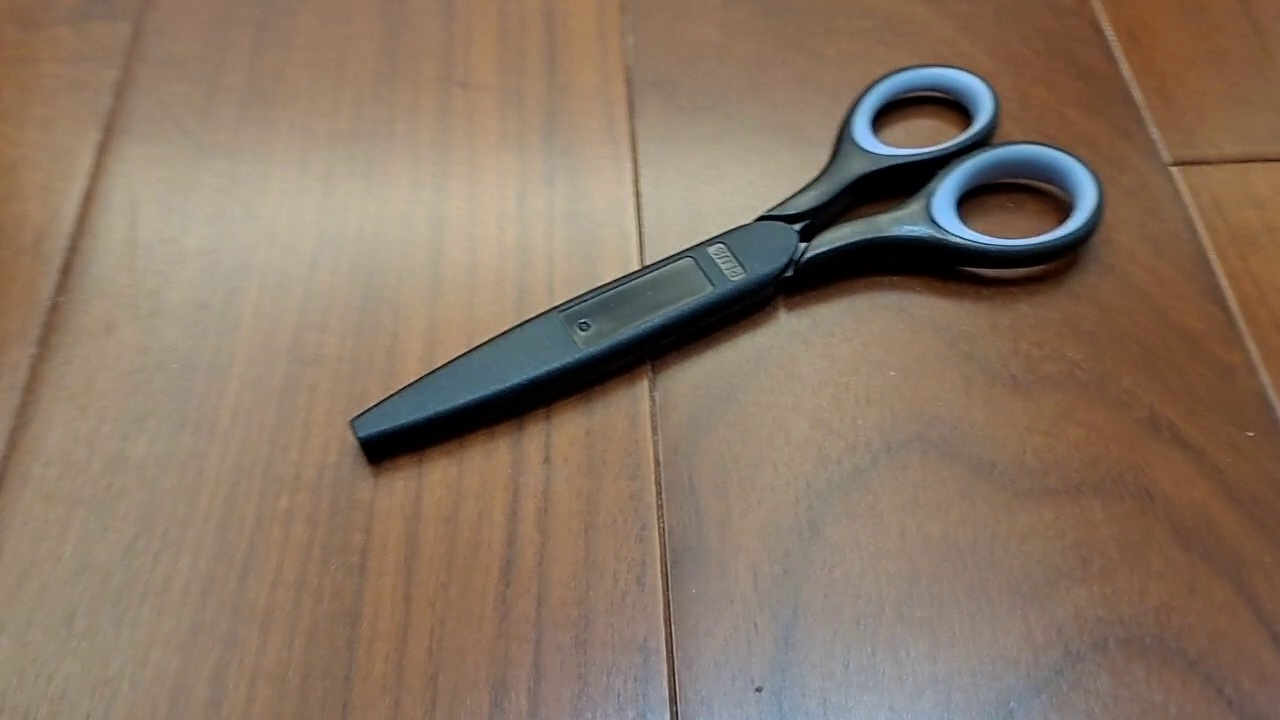scissors: (347, 61, 1106, 469)
